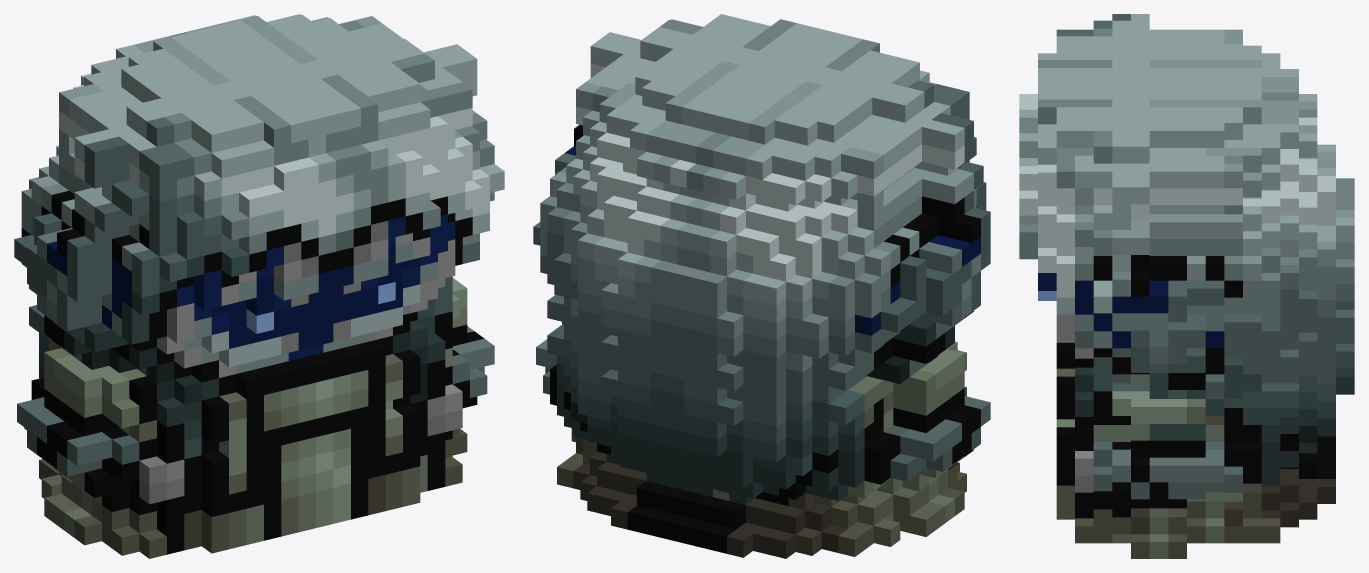
Rendered from Icon_755_02.obj.
3 views of the same model, side by side, from view 1: azimuth 30°, elevation 25°; view 2: azimuth 150°, elevation 25°; view 3: azimuth 270°, elevation 25° (orthographic). The views are drawn at different scales.
Bounding box in the file's own units: 2.4 × 2.3 × 1.8.
